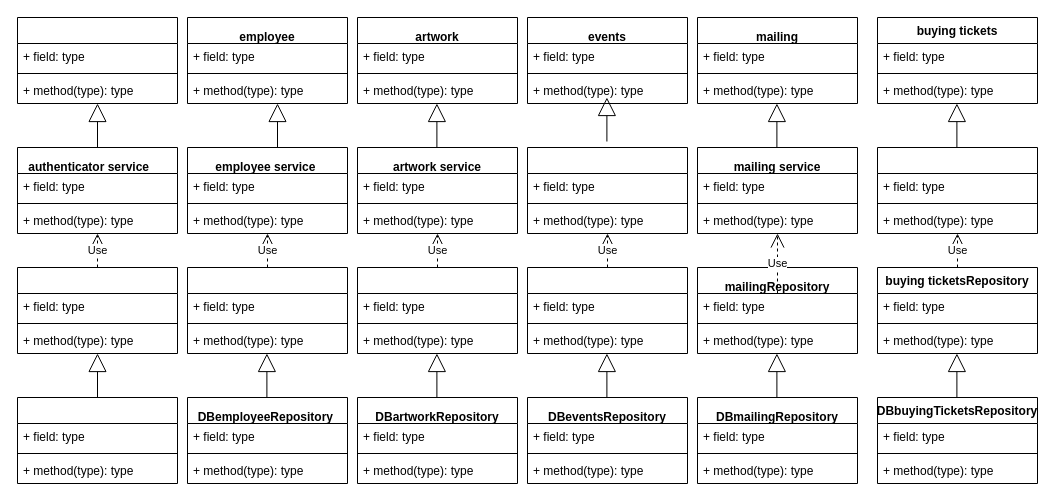
This 1055x504 diagram has some shape labels left out. The shapes that lost their labels are listed below. From the top down, each one's box as (x1, y1, x2, y2) in pixels, then its label:
(16, 16, 178, 104): authenticator
(526, 146, 688, 234): events service
(876, 146, 1038, 234): buying tickets service
(16, 266, 178, 354): authenticatorRepository
(186, 266, 348, 354): employee Repository
(356, 266, 518, 354): artwork Repository
(526, 266, 688, 354): events Repository
(16, 396, 178, 484): DBauthenticatorRepository
